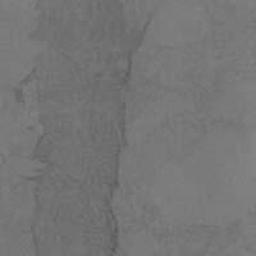Water spot: (14, 0, 156, 256)
